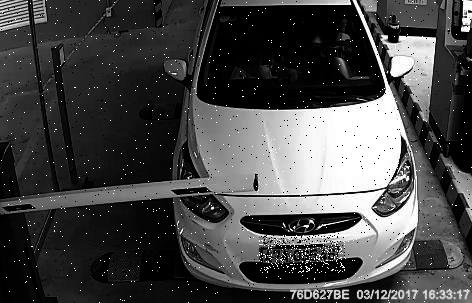License-plate: (261, 236, 347, 274)
